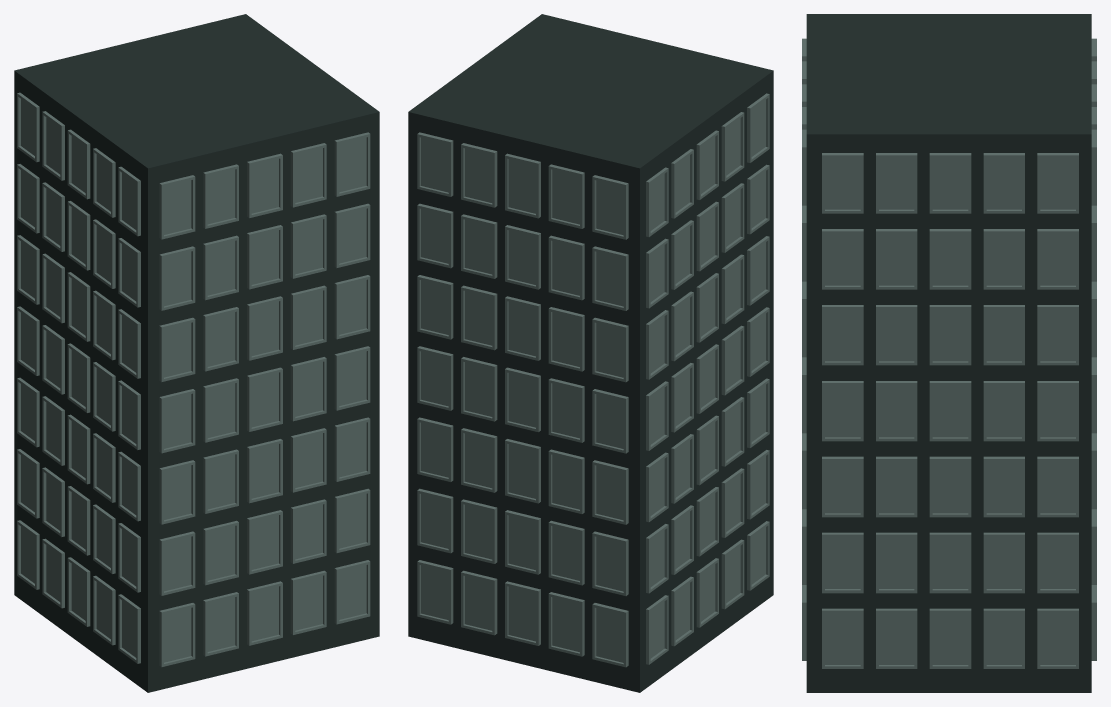
File: bina_1.fbx
3 renders of one model, left to right at view 1: azimuth 30°, elevation 25°; view 2: azimuth 150°, elevation 25°; view 3: azimuth 270°, elevation 25°, orthographic. The views are drawn at different scales.
Parts seen in each view (by area): view 1: bina_1; view 2: bina_1; view 3: bina_1.
Boxes of the visible parts, x1=… form: bina_1: x1=14, y1=14, x2=379, y2=692; bina_1: x1=408, y1=14, x2=773, y2=692; bina_1: x1=802, y1=14, x2=1096, y2=692.
Bounding box in the file's own units: 206 × 433 × 207.
Materials: 1 (1 with a texture image).
